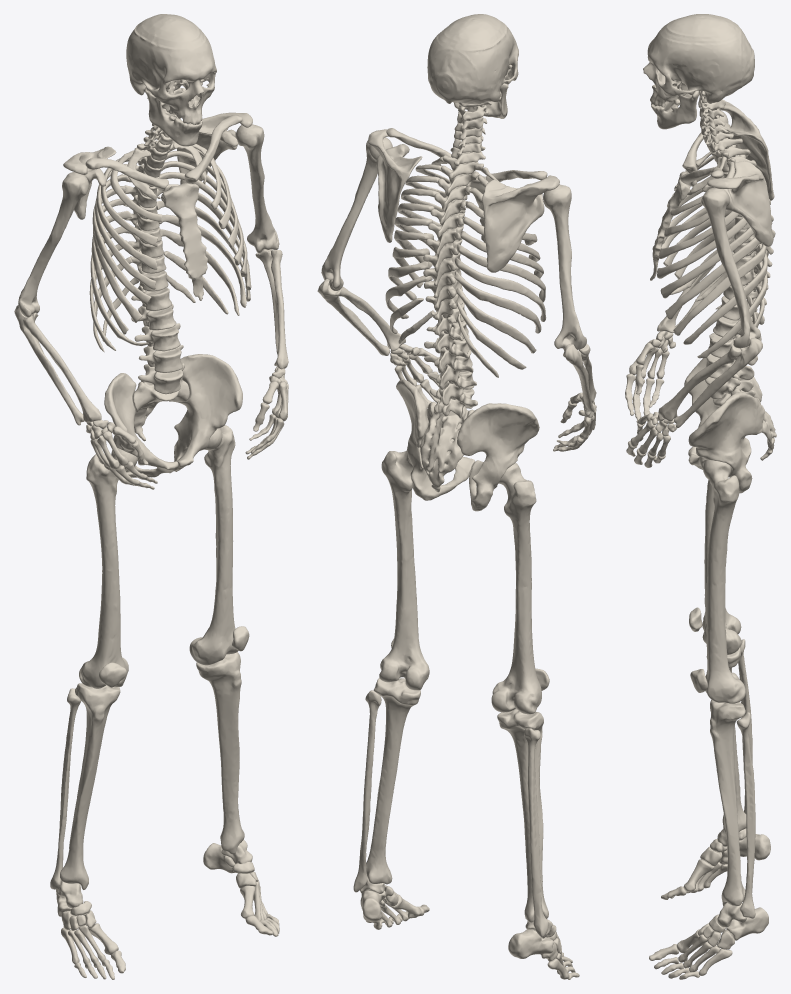
File: skeleton_fixed.glb
3 renders of one model, left to right at view 1: azimuth 30°, elevation 25°; view 2: azimuth 150°, elevation 25°; view 3: azimuth 270°, elevation 25°, orthographic. The views are drawn at different scales.
Parts seen in each view (by area): view 1: CRANIUM, FEMUR_LEFT, FEMUR_RIGHT, HIP_LEFT, TIBIA_LEFT, TIBIA_RIGHT, STERNUM, HIP_RIGHT, HUMERUS_RIGHT, HUMERUS_LEFT, FIBULA_RIGHT, SCAPULA_LEFT (+26 smaller); view 2: CRANIUM, FEMUR_RIGHT, FEMUR_LEFT, HIP_RIGHT, SCAPULA_RIGHT, TIBIA_LEFT, TIBIA_RIGHT, HUMERUS_RIGHT, HIP_LEFT, SACRUM, SCAPULA_LEFT, HUMERUS_LEFT (+16 smaller); view 3: CRANIUM, FEMUR_LEFT, HIP_LEFT, TIBIA_LEFT, SCAPULA_LEFT, HUMERUS_LEFT, FIBULA_LEFT, SCAPULA_RIGHT, FEMUR_RIGHT, ULNA_LEFT, HIP_RIGHT, MANDIBLE (+25 smaller).
Boxes of the visible parts, bbox=[...] form: CRANIUM: bbox=[126, 14, 216, 124]; FEMUR_LEFT: bbox=[189, 425, 238, 665]; FEMUR_RIGHT: bbox=[79, 448, 137, 688]; HIP_LEFT: bbox=[169, 354, 242, 471]; TIBIA_LEFT: bbox=[196, 652, 244, 854]; TIBIA_RIGHT: bbox=[60, 683, 120, 889]; STERNUM: bbox=[161, 183, 207, 300]; HIP_RIGHT: bbox=[104, 373, 178, 477]; HUMERUS_RIGHT: bbox=[18, 172, 88, 317]; HUMERUS_LEFT: bbox=[235, 124, 279, 252]; FIBULA_RIGHT: bbox=[50, 688, 80, 889]; SCAPULA_LEFT: bbox=[177, 112, 252, 184]; CRANIUM: bbox=[427, 14, 518, 104]; FEMUR_RIGHT: bbox=[491, 462, 541, 714]; FEMUR_LEFT: bbox=[379, 450, 429, 690]; HIP_RIGHT: bbox=[457, 403, 539, 511]; SCAPULA_RIGHT: bbox=[482, 175, 559, 272]; TIBIA_LEFT: bbox=[366, 678, 420, 884]; TIBIA_RIGHT: bbox=[497, 708, 548, 922]; HUMERUS_RIGHT: bbox=[543, 184, 586, 350]; HIP_LEFT: bbox=[396, 379, 475, 500]; SACRUM: bbox=[420, 400, 474, 492]; SCAPULA_LEFT: bbox=[368, 129, 422, 242]; HUMERUS_LEFT: bbox=[321, 137, 392, 290]; CRANIUM: bbox=[643, 14, 754, 107]; FEMUR_LEFT: bbox=[703, 459, 745, 703]; HIP_LEFT: bbox=[688, 392, 764, 493]; TIBIA_LEFT: bbox=[710, 699, 745, 906]; SCAPULA_LEFT: bbox=[702, 161, 773, 246]; HUMERUS_LEFT: bbox=[701, 187, 760, 348]; FIBULA_LEFT: bbox=[736, 712, 755, 918]; SCAPULA_RIGHT: bbox=[718, 101, 774, 200]; FEMUR_RIGHT: bbox=[702, 479, 741, 654]; ULNA_LEFT: bbox=[674, 338, 762, 428]; HIP_RIGHT: bbox=[684, 358, 762, 464]; MANDIBLE: bbox=[651, 90, 699, 129].
Bounding box in the file's own units: 0.5412 × 1.86 × 0.2777.
